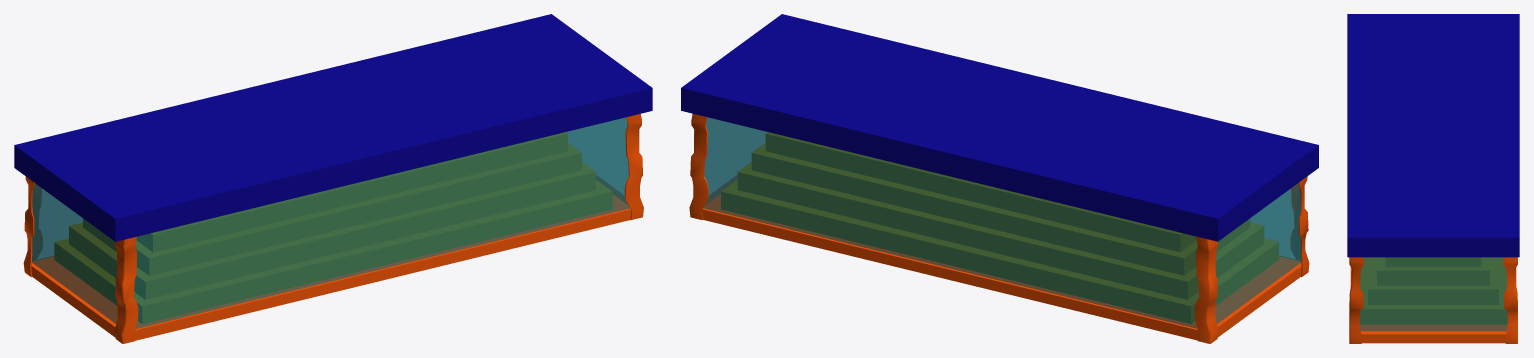
The model's file is FP_Model_Counter_WalidBasha.fbx.
3 views of the same model, side by side, from view 1: azimuth 30°, elevation 25°; view 2: azimuth 150°, elevation 25°; view 3: azimuth 270°, elevation 25° (orthographic). The views are drawn at different scales.
Parts seen in each view (by area): view 1: CounterTop_low; view 2: CounterTop_low; view 3: CounterTop_low.
Boxes of the visible parts, x1,y1,x2,y2 form: CounterTop_low: [14, 14, 652, 343]; CounterTop_low: [681, 14, 1318, 343]; CounterTop_low: [1347, 14, 1519, 343].
Bounding box in the file's own units: 4.3 × 0.9839 × 1.4.
